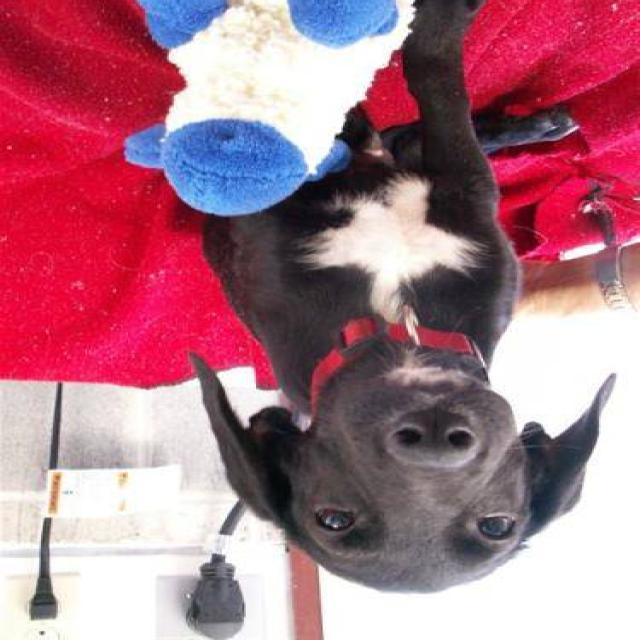dog: (168, 21, 625, 602)
